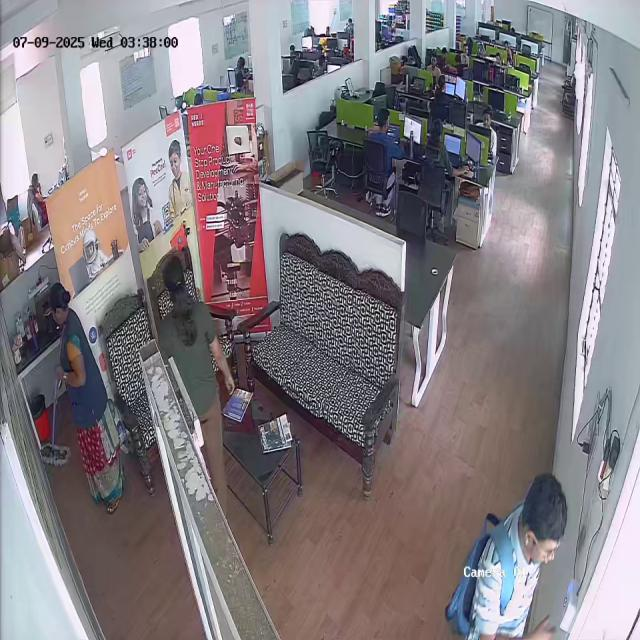person: (38, 282, 118, 516), (159, 257, 232, 510), (460, 467, 566, 640), (362, 108, 403, 221), (420, 118, 458, 227), (29, 173, 51, 224)
